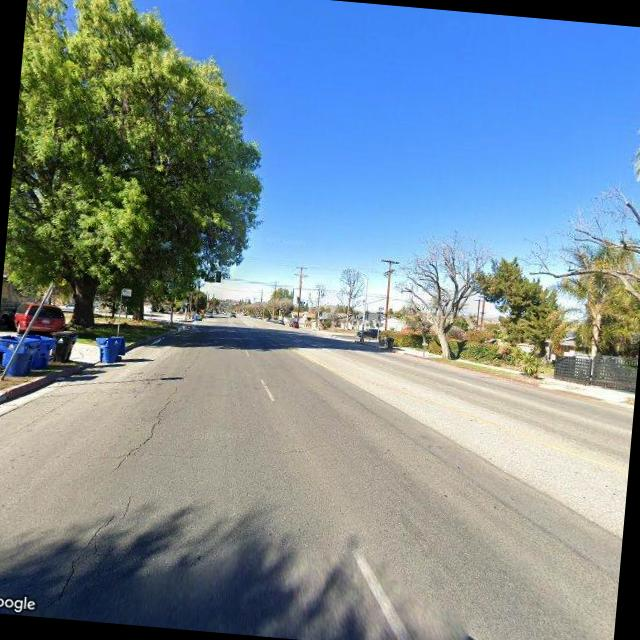pothole: (44, 492, 128, 612), (108, 378, 181, 478)
